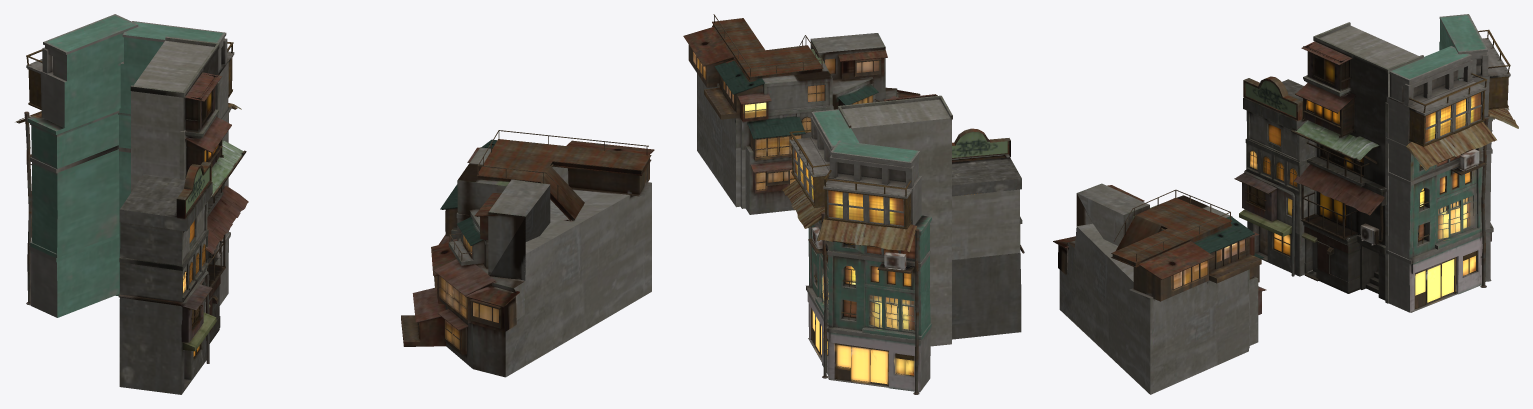
The model's file is shop 02 bake.fbx.
3 views of the same model, side by side, from view 1: azimuth 30°, elevation 25°; view 2: azimuth 150°, elevation 25°; view 3: azimuth 270°, elevation 25° (orthographic). The views are drawn at different scales.
Parts seen in each view (by area): view 1: shop_02_bake; view 2: shop_02_bake; view 3: shop_02_bake.
Part boxes in pixels (x1=…): shop_02_bake: x1=15, y1=14, x2=654, y2=394; shop_02_bake: x1=683, y1=14, x2=1024, y2=394; shop_02_bake: x1=1053, y1=14, x2=1518, y2=394.
Bounding box in the file's own units: 5749 × 3130 × 5641.
